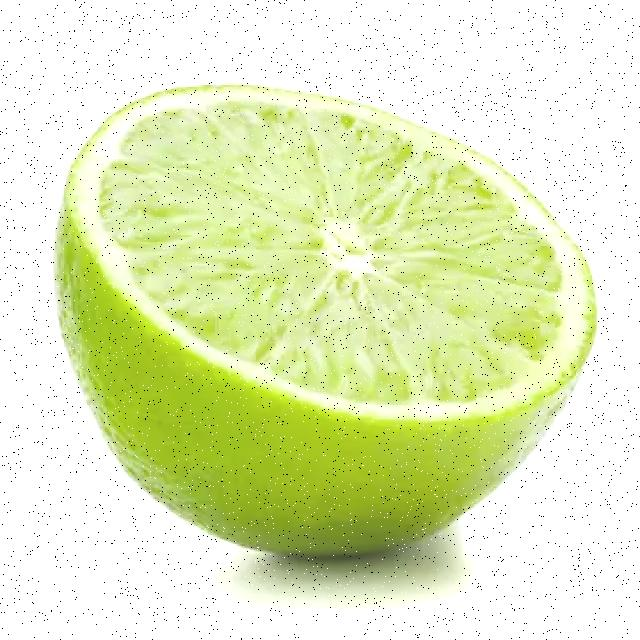Lime: (38, 31, 602, 601)
